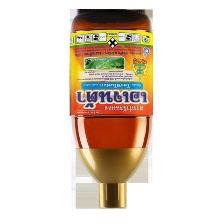insecticide: (66, 7, 158, 213)
